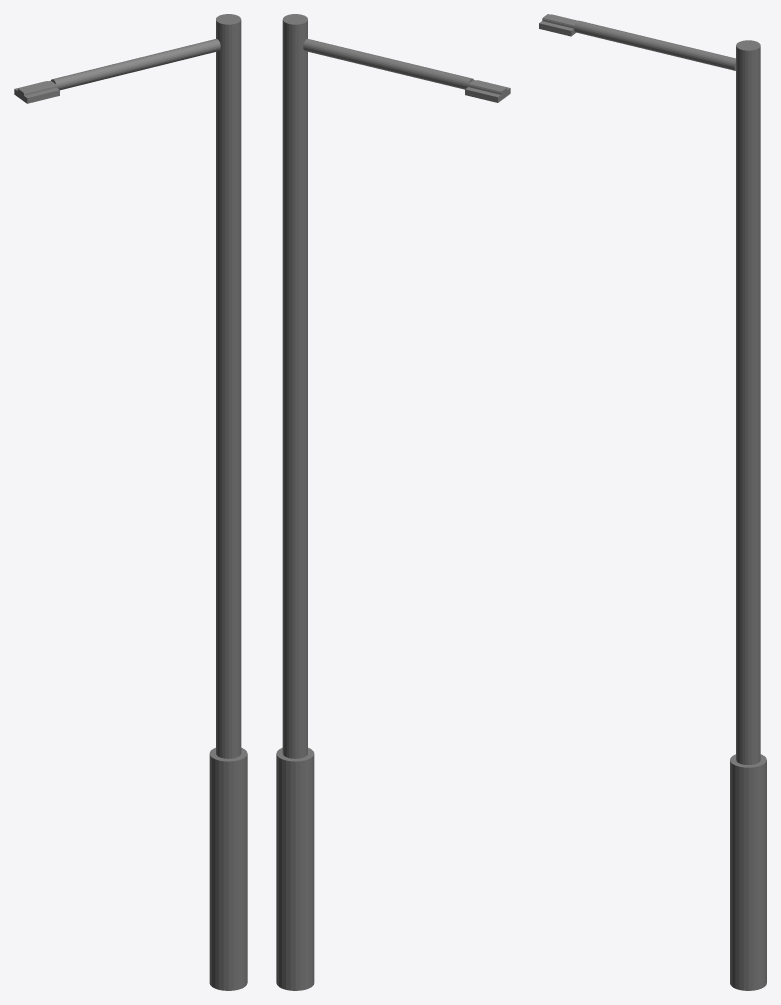
File: signs-new.obj
3 views of the same model, side by side, from view 1: azimuth 30°, elevation 25°; view 2: azimuth 150°, elevation 25°; view 3: azimuth 330°, elevation 25° (orthographic). The views are drawn at different scales.
Visible parts, largest first — view 1: Mesh1 Model; view 2: Mesh1 Model; view 3: Mesh1 Model.
Boxes of the visible parts, x1,y1,x2,y2 form: Mesh1 Model: (14, 14, 247, 990); Mesh1 Model: (276, 14, 510, 990); Mesh1 Model: (539, 14, 766, 990).
Size of the model in its own units: 2.05 by 8.4 by 0.3.
3 materials, 2 textured.
